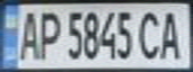4: (100, 7, 121, 60)
5: (60, 7, 84, 60), (115, 7, 139, 60)
8: (81, 7, 100, 61)
A: (154, 7, 187, 61), (12, 7, 42, 61)
C: (136, 7, 163, 60)
P: (33, 7, 63, 61)
